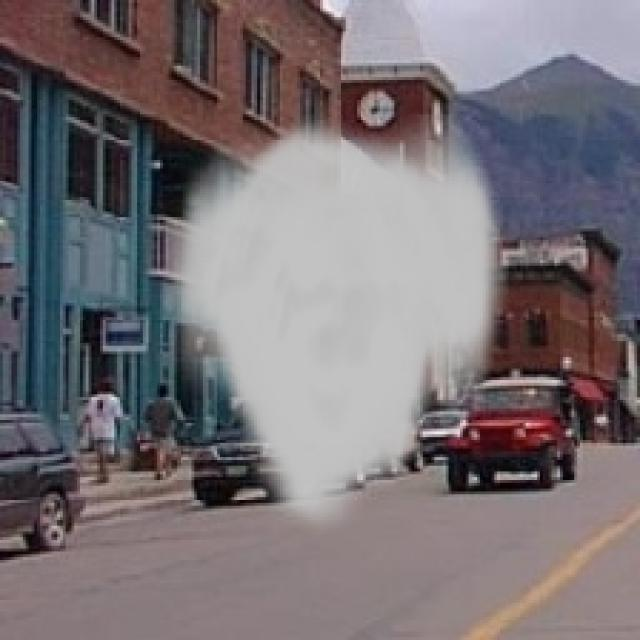Smoke: (160, 115, 509, 534)
